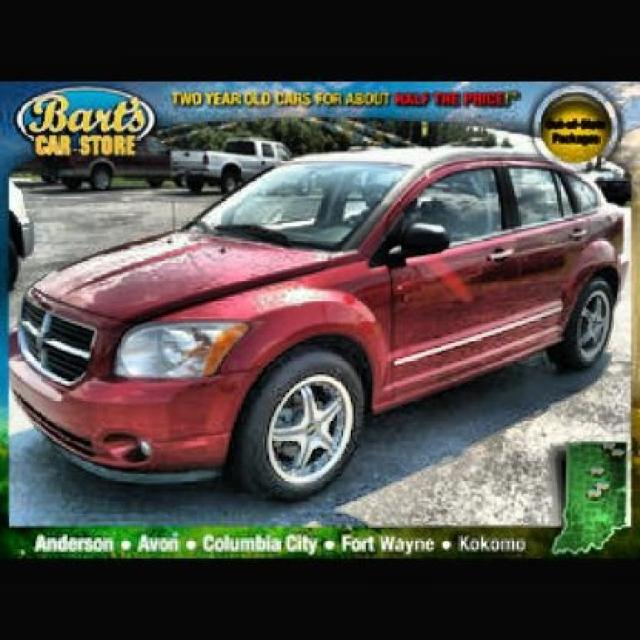maroon: (13, 148, 627, 501)
